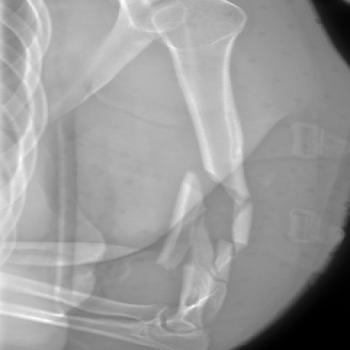Fracture: (171, 158, 266, 285)
